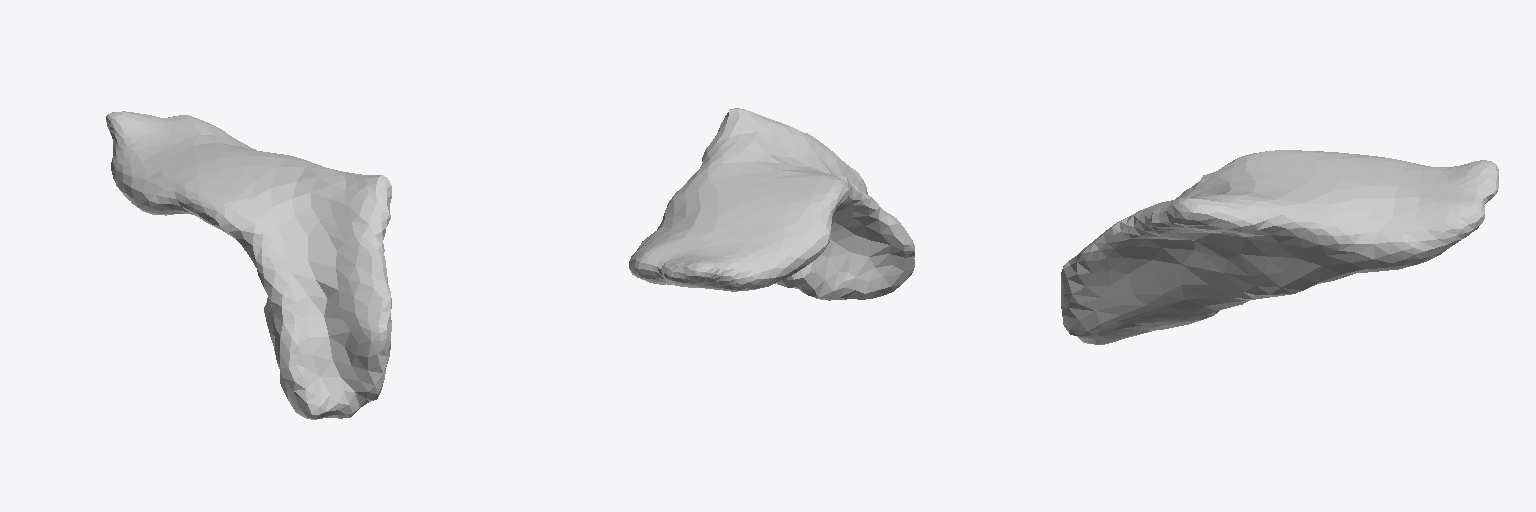
The model's file is left_suprarrenal.obj.
The picture shows the model from 3 angles: view 1: azimuth 30°, elevation 25°; view 2: azimuth 150°, elevation 25°; view 3: azimuth 270°, elevation 25°; orthographic projection.
Parts seen in each view (by area): view 1: left_suprarrenal; view 2: left_suprarrenal; view 3: left_suprarrenal.
Boxes of the visible parts, <box> form: left_suprarrenal: <box>106,111,391,419</box>; left_suprarrenal: <box>629,108,914,300</box>; left_suprarrenal: <box>1061,150,1498,344</box>.
Size of the model in its own units: 21.88 by 22.7 by 47.85.